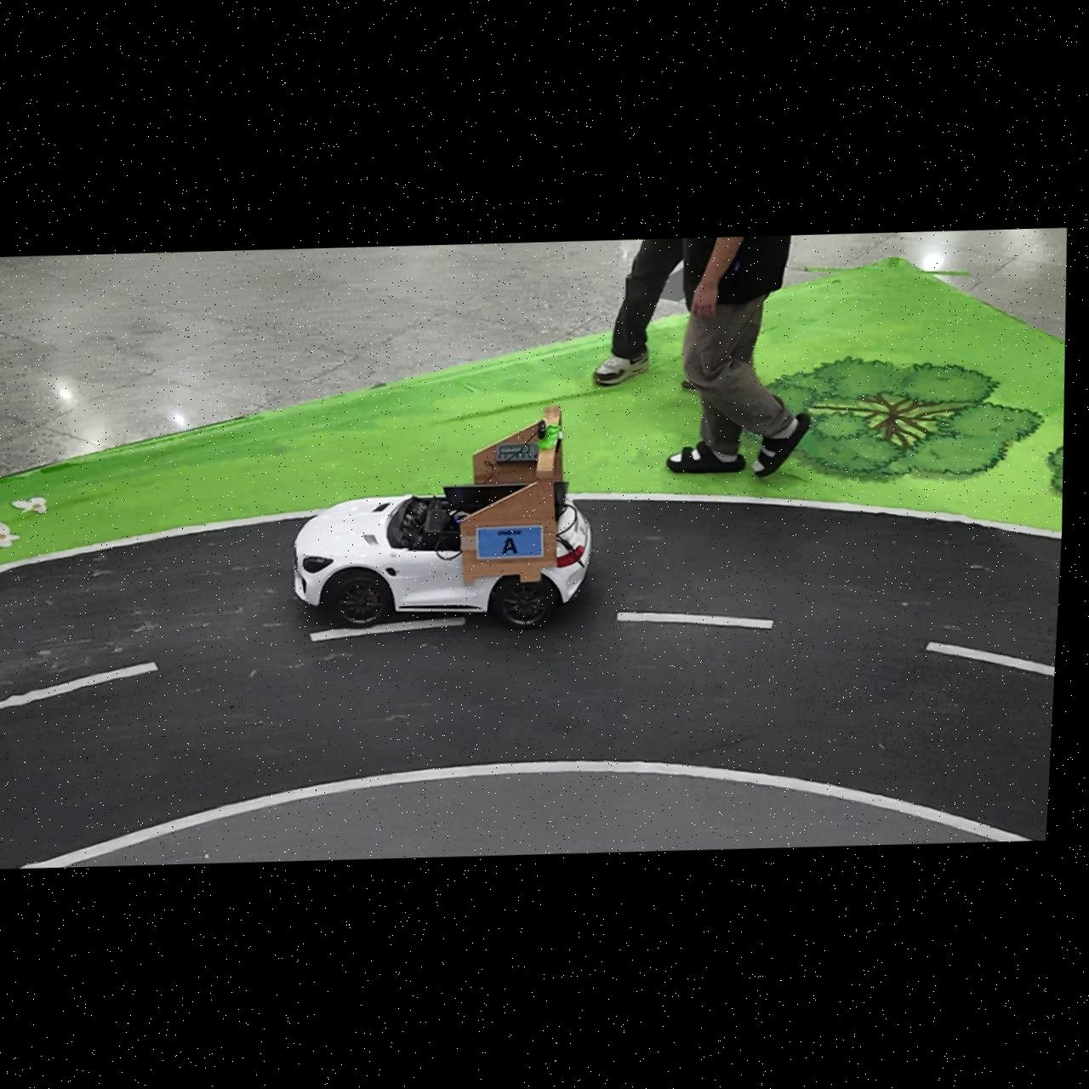broken_line: (0, 661, 158, 709), (925, 641, 1055, 677), (308, 616, 465, 641), (616, 611, 774, 629)
